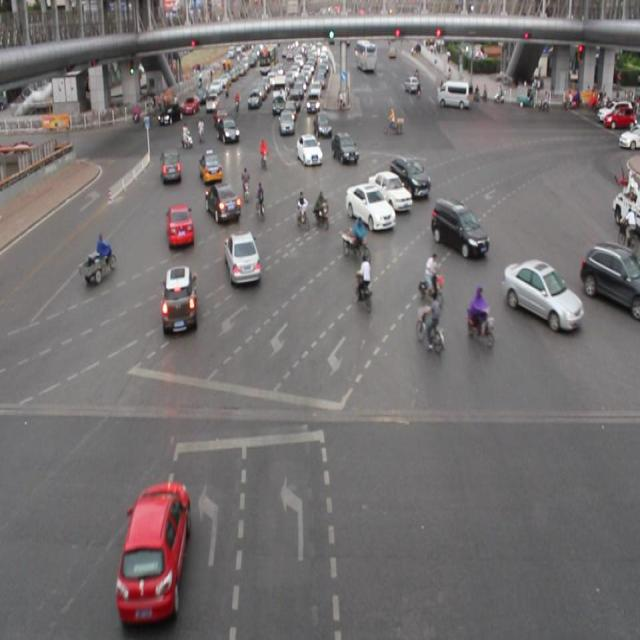car: (117, 480, 189, 622), (502, 259, 580, 330), (578, 244, 640, 312), (430, 196, 485, 257), (159, 262, 198, 335), (345, 183, 394, 233), (221, 230, 260, 286), (366, 168, 412, 214), (388, 152, 429, 199), (204, 185, 240, 225), (168, 201, 195, 249), (293, 132, 322, 167), (332, 129, 358, 167), (200, 145, 223, 184), (160, 147, 182, 186)
